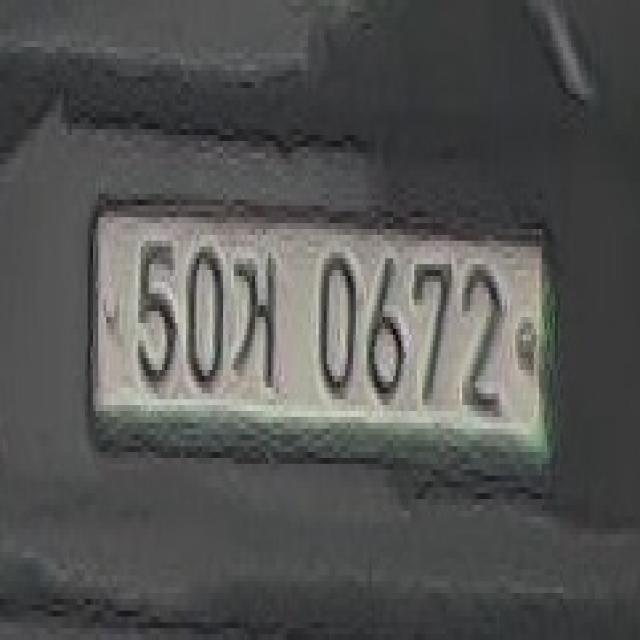0: (316, 239, 359, 407), (182, 236, 225, 388)
2: (462, 262, 514, 422)
5: (136, 226, 179, 386)
6: (367, 252, 410, 410)
7: (412, 245, 452, 413)
geo: (231, 236, 286, 402)
license_plate: (85, 204, 561, 482)
